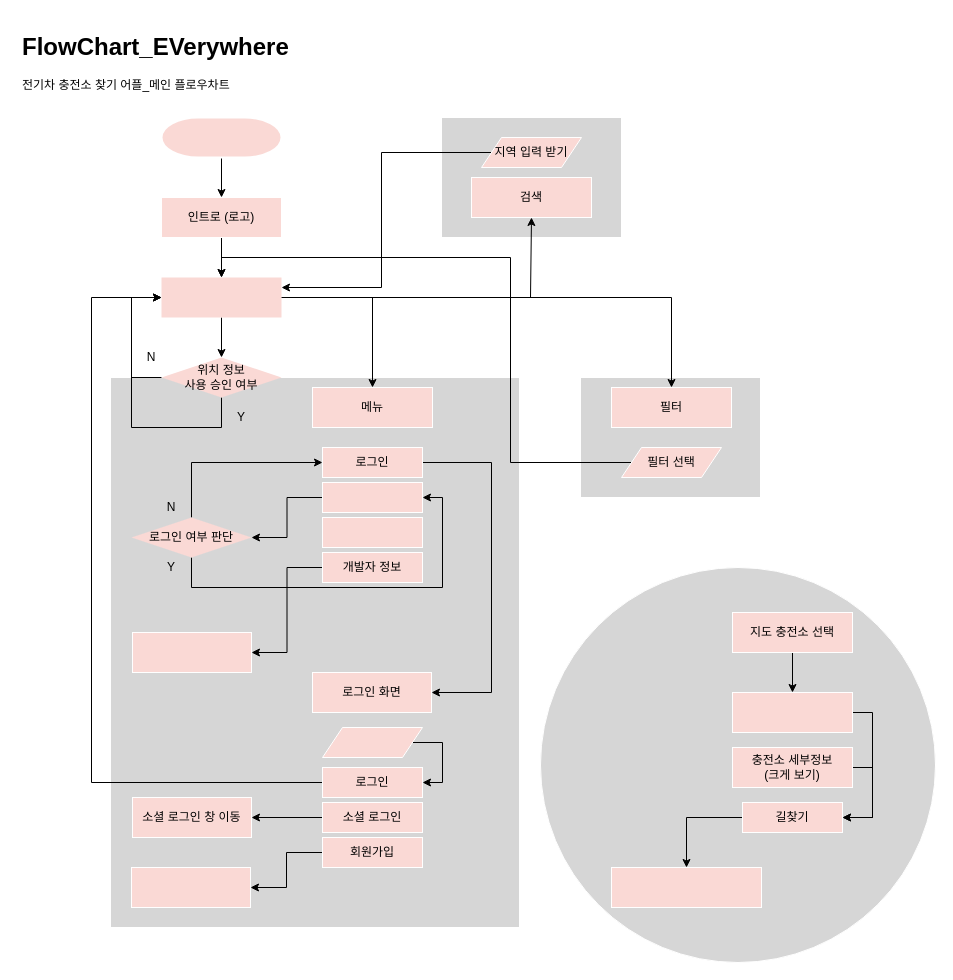
This 953x980 diagram has some shape labels left out. The shapes that lost their labels are listed below. From the top down, each one's centre as x and y in pixels, then its label:
the point at 221,137: 시작 app 실행
the point at 221,297: 메인 페이지 (지도)
the point at 372,497: 즐겨찾기
the point at 372,532: 전국 충전소 위치
the point at 192,652: 웹페이지 이동
the point at 792,712: 충전소 세부정보
the point at 372,742: ID/비밀번호
the point at 190,887: 회원가입 이동
the point at 686,887: 카카오 네비게이션 API 연동
